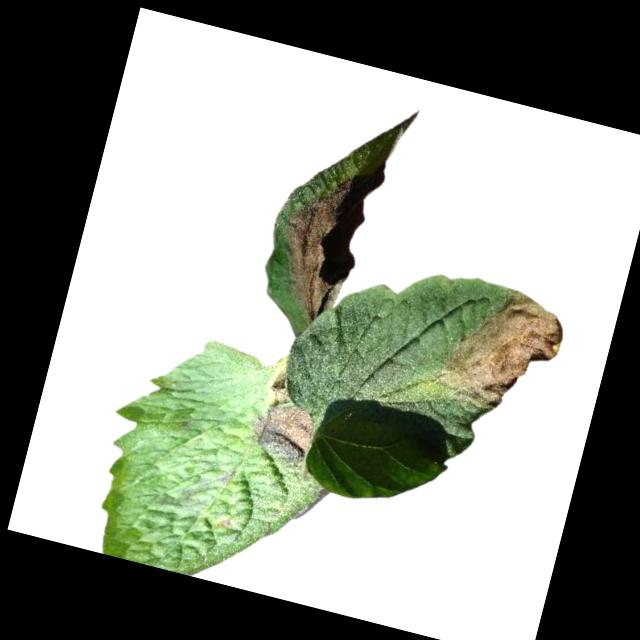Late_blight: (430, 274, 574, 422), (269, 167, 355, 325), (246, 395, 322, 467), (267, 367, 298, 401)
